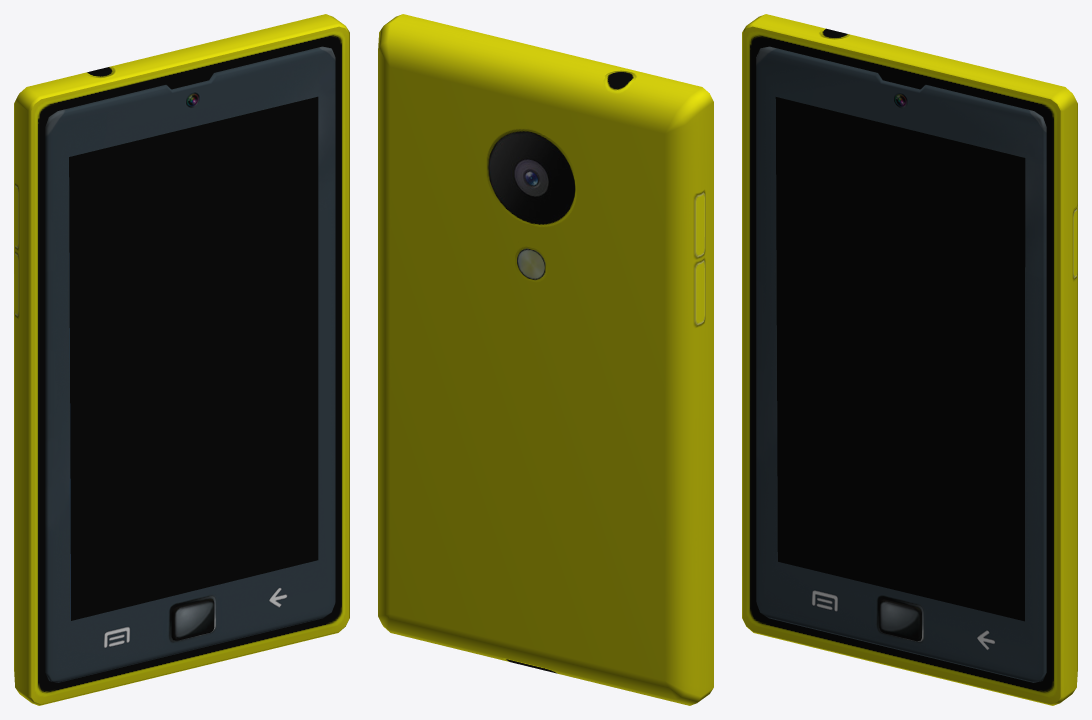
The model's file is Mobilephone.fbx.
The picture shows the model from 3 angles, left to right: view 1: azimuth 30°, elevation 25°; view 2: azimuth 150°, elevation 25°; view 3: azimuth 330°, elevation 25°; orthographic projection.
Parts seen in each view (by area): view 1: 078; view 2: 078; view 3: 078.
Part boxes in pixels (<box>): 078: <box>14,14,349,705</box>; 078: <box>378,14,713,705</box>; 078: <box>742,14,1077,705</box>.
Bounding box in the file's own units: 32.48 × 58.73 × 5.22.
Materials: 2 (2 with a texture image).
